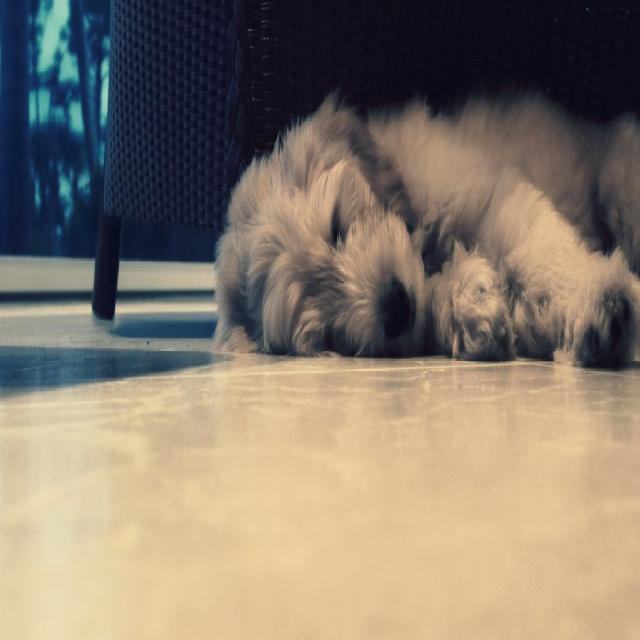Dog: (208, 92, 639, 366)
